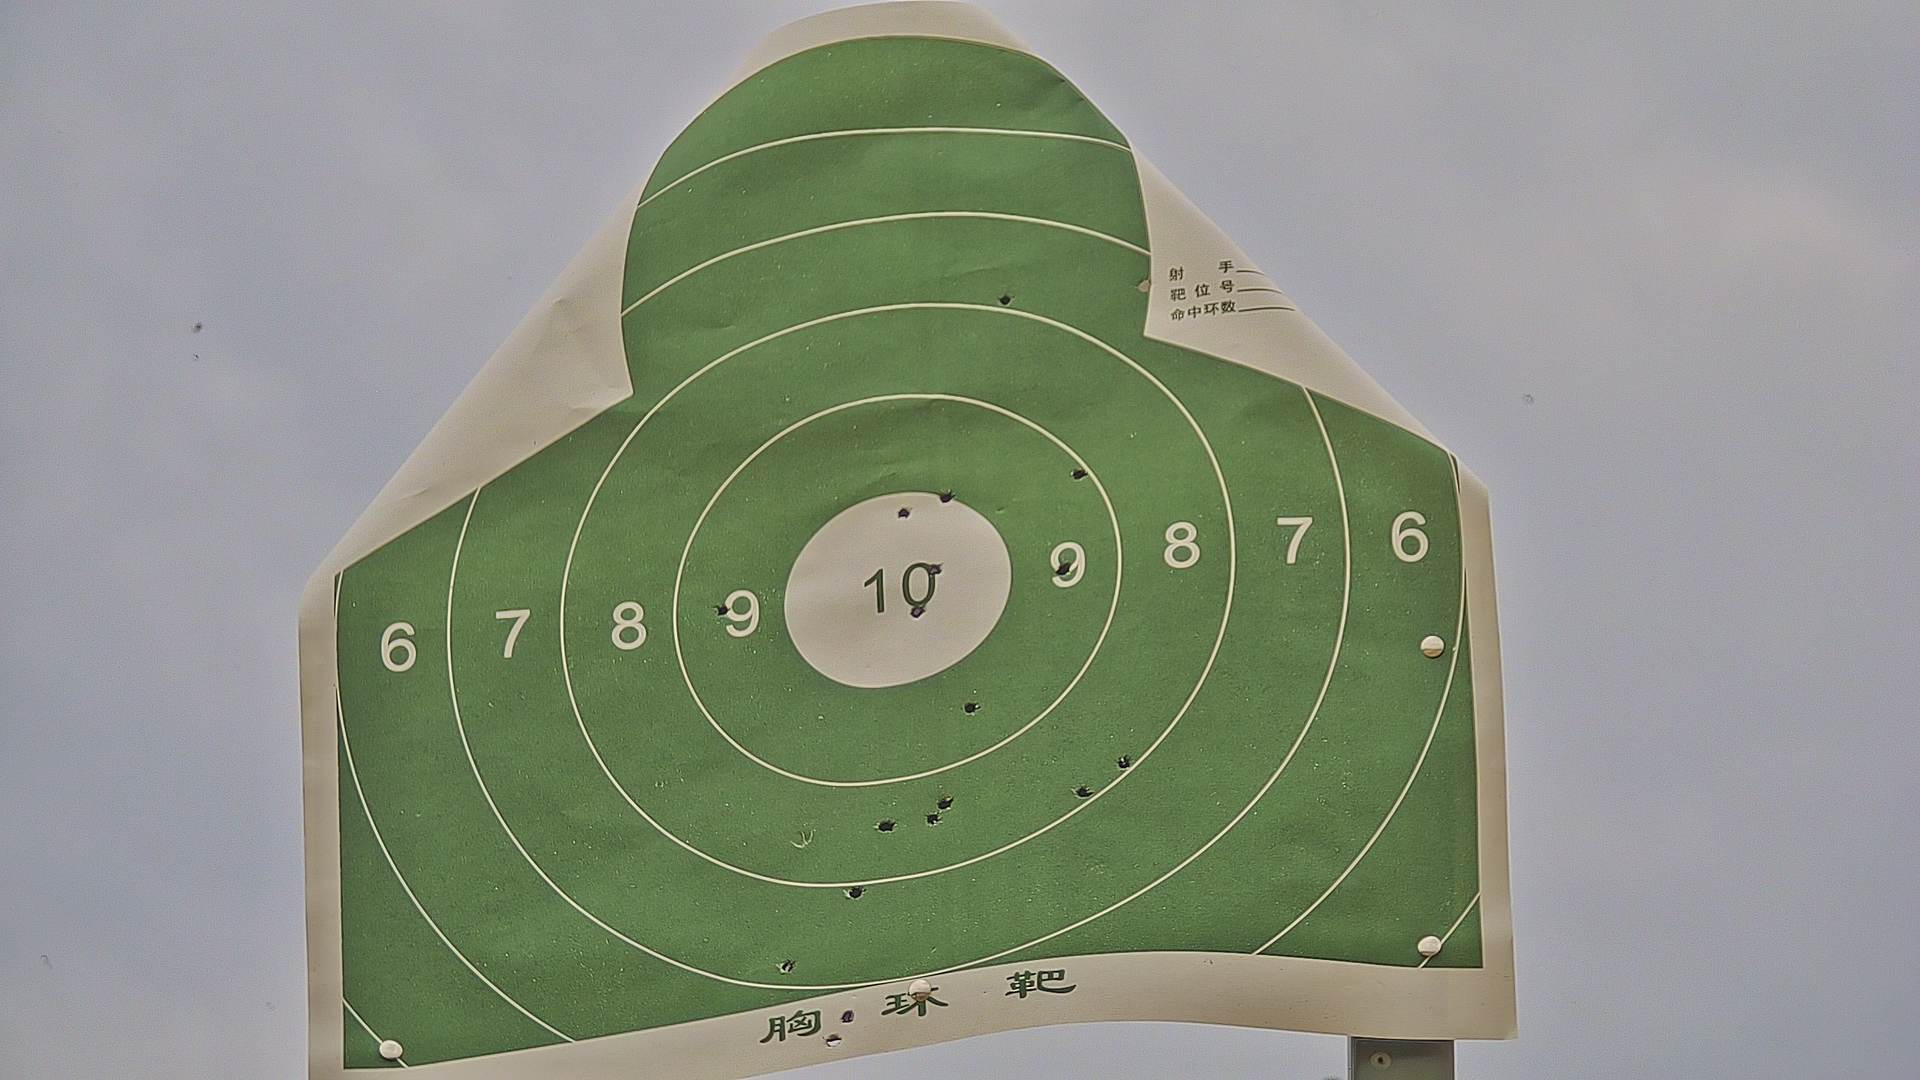hole: (773, 957, 800, 975), (1051, 558, 1073, 579), (905, 600, 928, 620), (1068, 464, 1093, 483), (1072, 781, 1095, 800), (873, 818, 897, 836), (837, 1007, 858, 1027), (893, 502, 915, 521), (922, 811, 945, 828), (959, 698, 978, 717), (934, 487, 957, 502), (841, 885, 866, 899), (996, 290, 1017, 307), (1114, 752, 1135, 769), (934, 793, 953, 810), (822, 1035, 847, 1048), (926, 559, 945, 575), (713, 603, 731, 618), (1134, 278, 1151, 294)
kernel: (890, 584, 895, 592)
target: (332, 36, 1476, 1073)
ten: (781, 491, 1017, 694)
